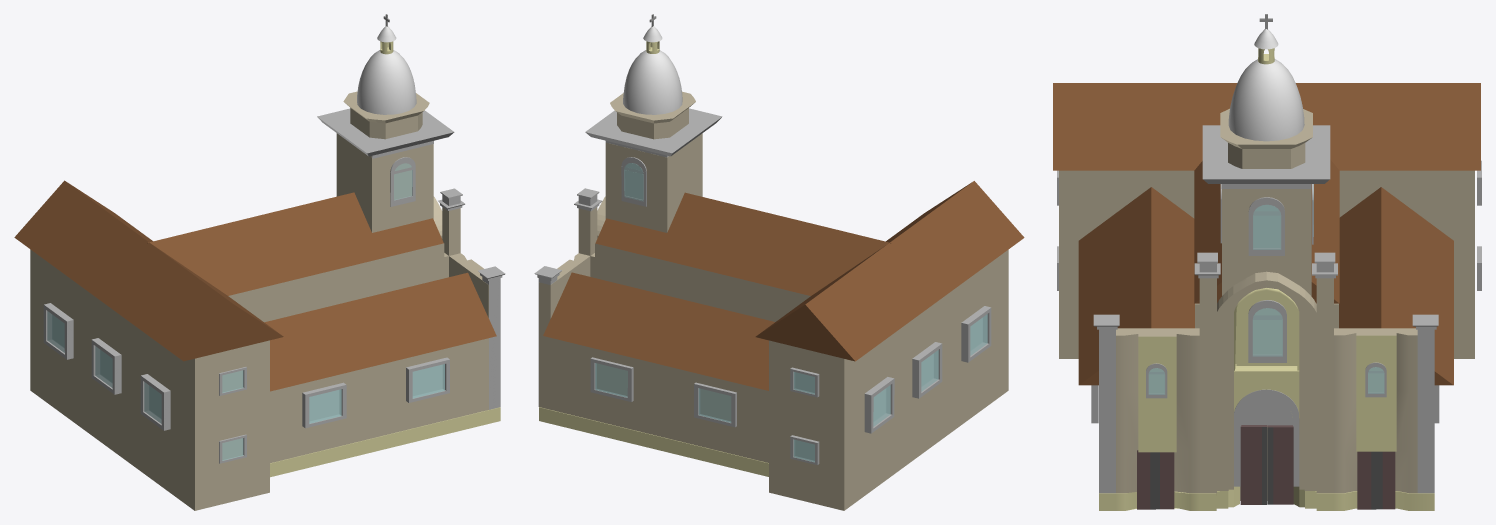
The model's file is iglesia.fbx.
3 views of the same model, side by side, from view 1: azimuth 30°, elevation 25°; view 2: azimuth 150°, elevation 25°; view 3: azimuth 270°, elevation 25° (orthographic). The views are drawn at different scales.
Visible parts, largest first — view 1: pCube7, pCube9, pCube10, pCube8, pasted__pCube26, pCube5, pasted__pCube4, pSphere1, pasted__pCube35, pCube6, pCube14, pasted__pCube340 (+11 smaller); view 2: pCube7, pCube9, pasted__pCube15, pCube11, pCube8, pCube5, pCube4, pSphere1, pasted__pCube35, pCube6, pasted__pCube338, pasted__pCube340 (+10 smaller); view 3: pCube9, pasted__pCube15 (×2), pCube7, pasted__pCube26, pCube10, pCube11, pCube5, pCube8, pSphere1, pasted__pCube24, pasted__pCube35, pasted__pasted__pCube15 (+19 smaller).
Boxes of the visible parts, x1,y1,x2,y2 form: pCube7: [30, 243, 444, 510]; pCube9: [14, 180, 283, 361]; pCube10: [264, 272, 496, 391]; pCube8: [147, 192, 443, 295]; pasted__pCube26: [270, 207, 488, 463]; pCube5: [336, 133, 433, 232]; pasted__pCube4: [270, 407, 500, 477]; pSphere1: [357, 50, 416, 114]; pasted__pCube35: [317, 108, 454, 156]; pCube6: [343, 91, 429, 139]; pCube14: [482, 277, 500, 409]; pasted__pCube340: [91, 338, 121, 394]; pCube7: [595, 243, 1008, 510]; pCube9: [755, 181, 1024, 361]; pasted__pCube15: [539, 207, 768, 462]; pCube11: [543, 272, 774, 390]; pCube8: [595, 192, 891, 295]; pCube5: [605, 133, 702, 232]; pCube4: [539, 407, 768, 476]; pSphere1: [623, 50, 682, 114]; pasted__pCube35: [585, 108, 722, 156]; pCube6: [610, 91, 695, 139]; pasted__pCube338: [864, 377, 894, 433]; pasted__pCube340: [912, 342, 942, 398]; pCube9: [1053, 83, 1480, 170]; pasted__pCube15 (×2): [1266, 272, 1417, 493]; pCube7: [1059, 170, 1474, 499]; pasted__pCube26: [1116, 278, 1216, 493]; pCube10: [1078, 187, 1194, 385]; pCube11: [1339, 187, 1453, 385]; pCube5: [1222, 189, 1311, 500]; pCube8: [1194, 159, 1339, 303]; pSphere1: [1228, 59, 1304, 141]; pasted__pCube24: [1234, 288, 1299, 417]; pasted__pCube35: [1202, 125, 1330, 183]; pasted__pasted__pCube15: [1217, 271, 1266, 490].
Size of the model in its own units: 22.77 by 23.84 by 19.78.
